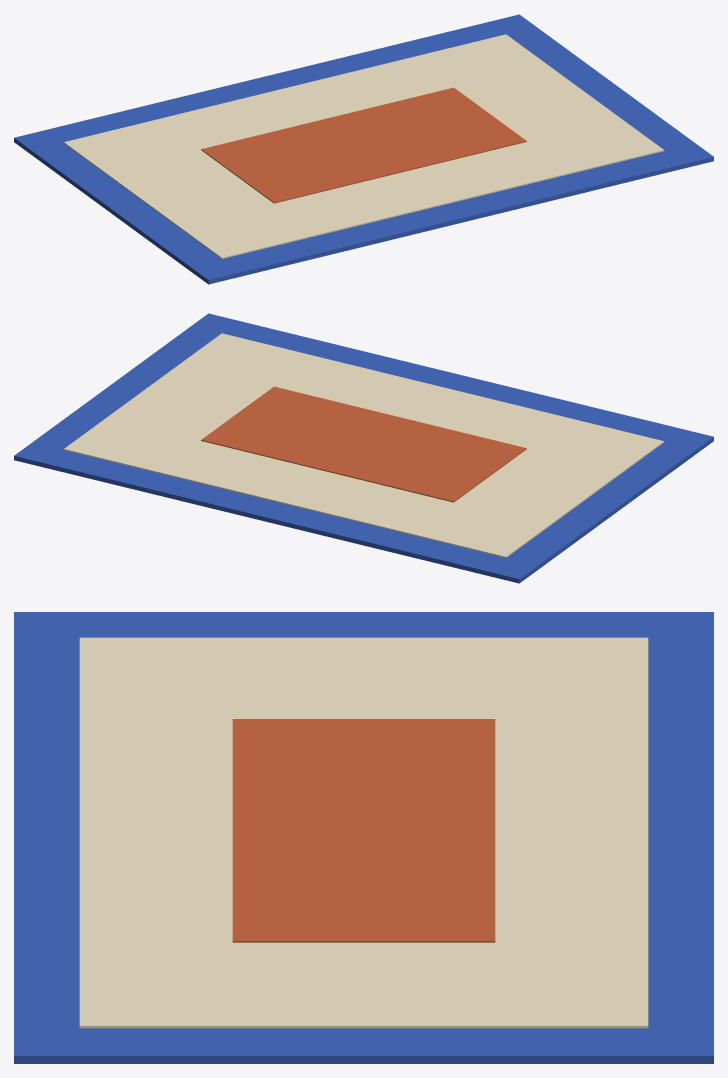
The model's file is rug_rect.glb.
3 views of the same model, one above another, from view 1: azimuth 30°, elevation 25°; view 2: azimuth 150°, elevation 25°; view 3: azimuth 270°, elevation 25° (orthographic). The views are drawn at different scales.
Visible parts, largest first — view 1: rug_rect; view 2: rug_rect; view 3: rug_rect.
Boxes of the visible parts, x1,y1,x2,y2 form: rug_rect: [14, 14, 713, 284]; rug_rect: [14, 313, 713, 583]; rug_rect: [14, 612, 713, 1063].
Size of the model in its own units: 2.4 by 0.03 by 1.6.
